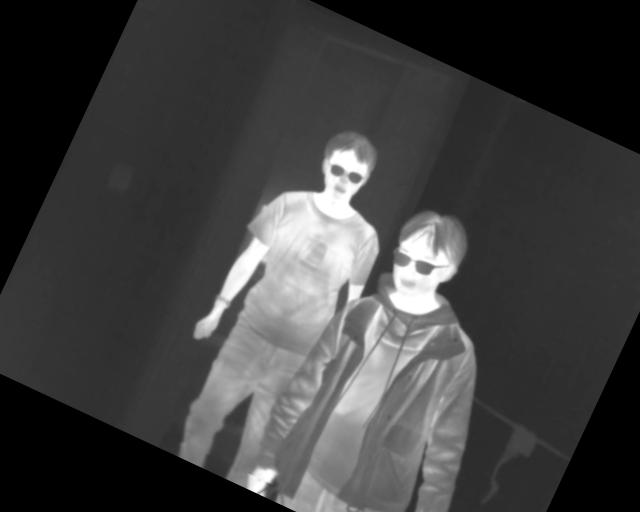face: (377, 197, 479, 311), (307, 122, 386, 211)
